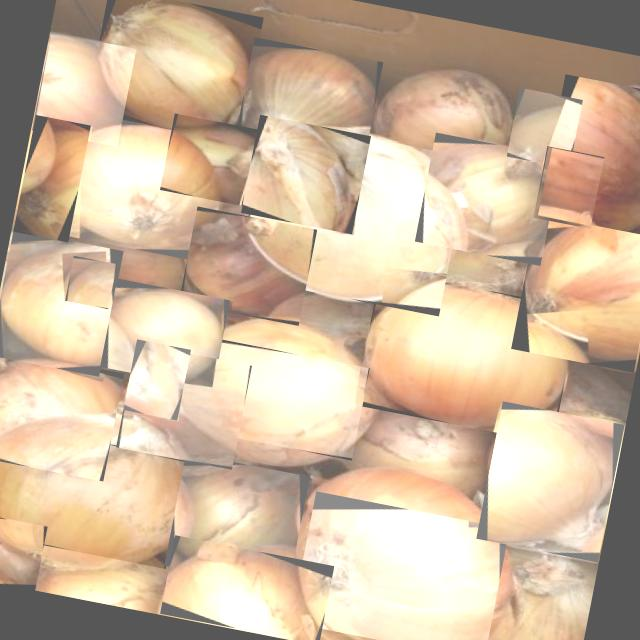healthy: (236, 118, 469, 316), (354, 270, 579, 443), (290, 491, 509, 640), (46, 110, 232, 264), (0, 423, 187, 569), (85, 0, 263, 142), (476, 402, 624, 565), (511, 200, 640, 373), (196, 338, 370, 461), (234, 37, 384, 172), (164, 453, 310, 590), (415, 133, 562, 266), (160, 535, 334, 640), (0, 230, 123, 377), (116, 343, 252, 470), (178, 206, 318, 326), (538, 74, 640, 238), (0, 348, 124, 482), (241, 114, 371, 234), (100, 279, 230, 389), (32, 31, 136, 148), (13, 115, 91, 243), (160, 114, 259, 206), (507, 88, 582, 169), (534, 146, 604, 229), (123, 340, 191, 420), (0, 509, 47, 590), (65, 256, 117, 310)
